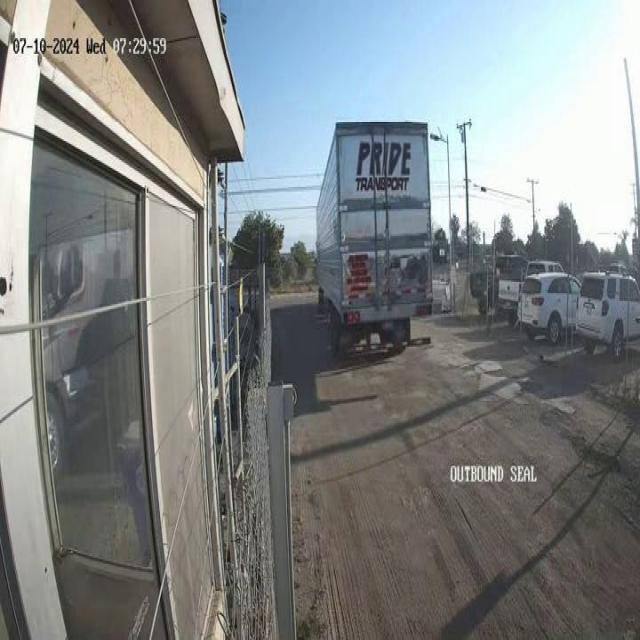TRUCK_OUT: (314, 119, 434, 356)
